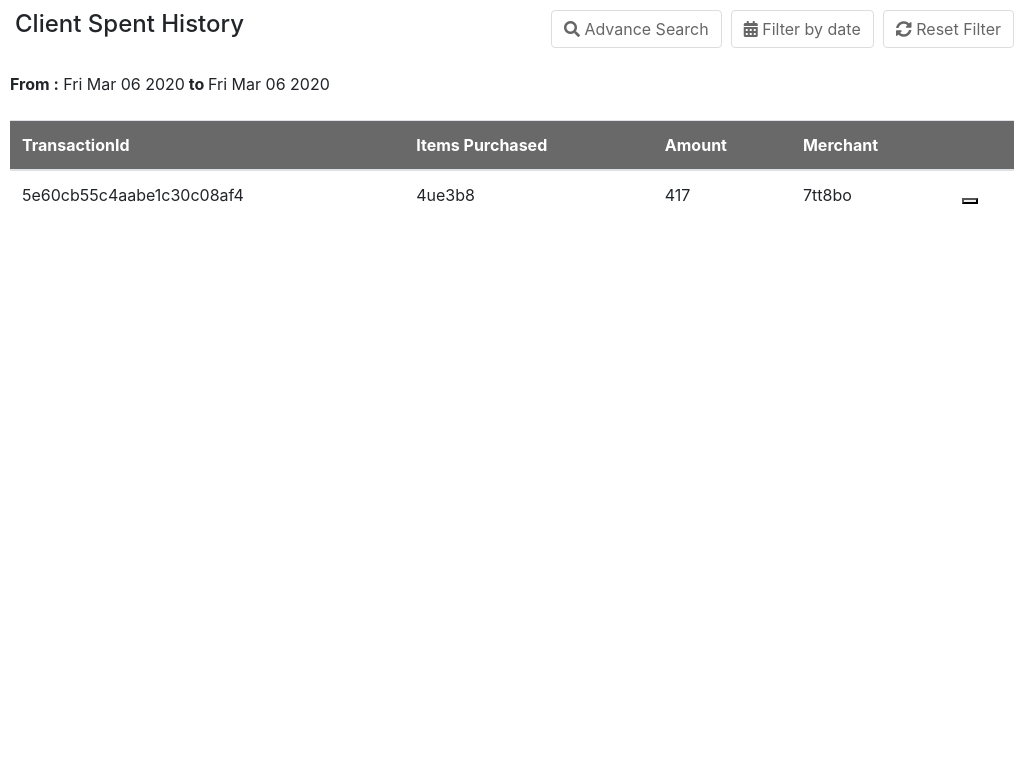
it: SpentHistory › should open advance filter modal
This screenshot has width=1024, height=768.
Click the button with test id "toggleAdvanceFilter" at (636, 29), box [551,10,722,48]
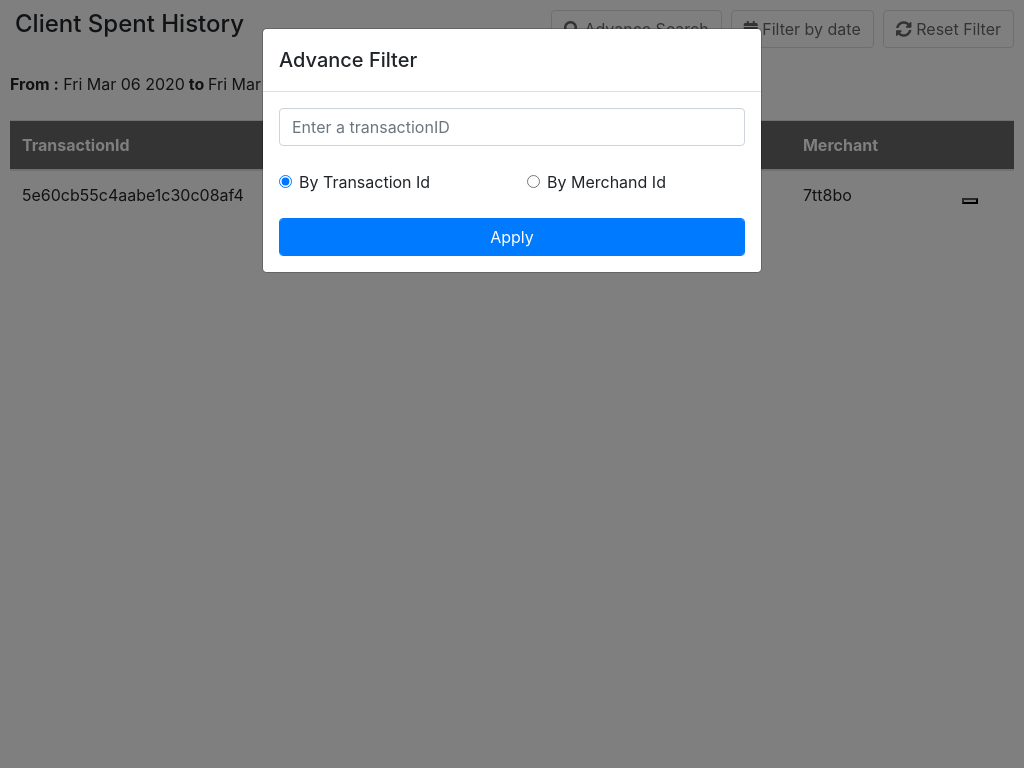
Check: the element with test id "advfilter" is shown, box [262,28,762,273]
